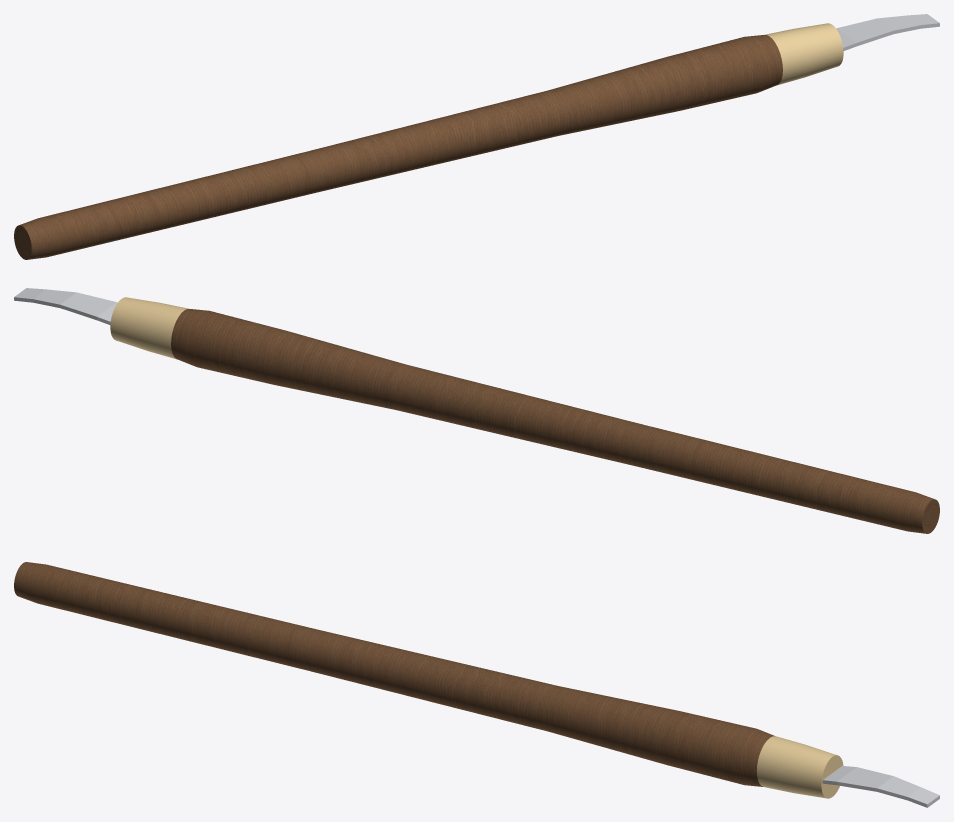
The model's file is dip_pen.glb.
3 views of the same model, one above another, from view 1: azimuth 30°, elevation 25°; view 2: azimuth 150°, elevation 25°; view 3: azimuth 330°, elevation 25° (orthographic).
Visible parts, largest first — view 1: dip_pen; view 2: dip_pen; view 3: dip_pen.
Part boxes in pixels (left/top/right/bottom): dip_pen: left=14, top=14, right=939, bottom=259; dip_pen: left=14, top=288, right=939, bottom=533; dip_pen: left=14, top=562, right=939, bottom=807.
Size of the model in its own units: 0.189 by 0.0104 by 0.0104.
3 materials, 1 textured.
